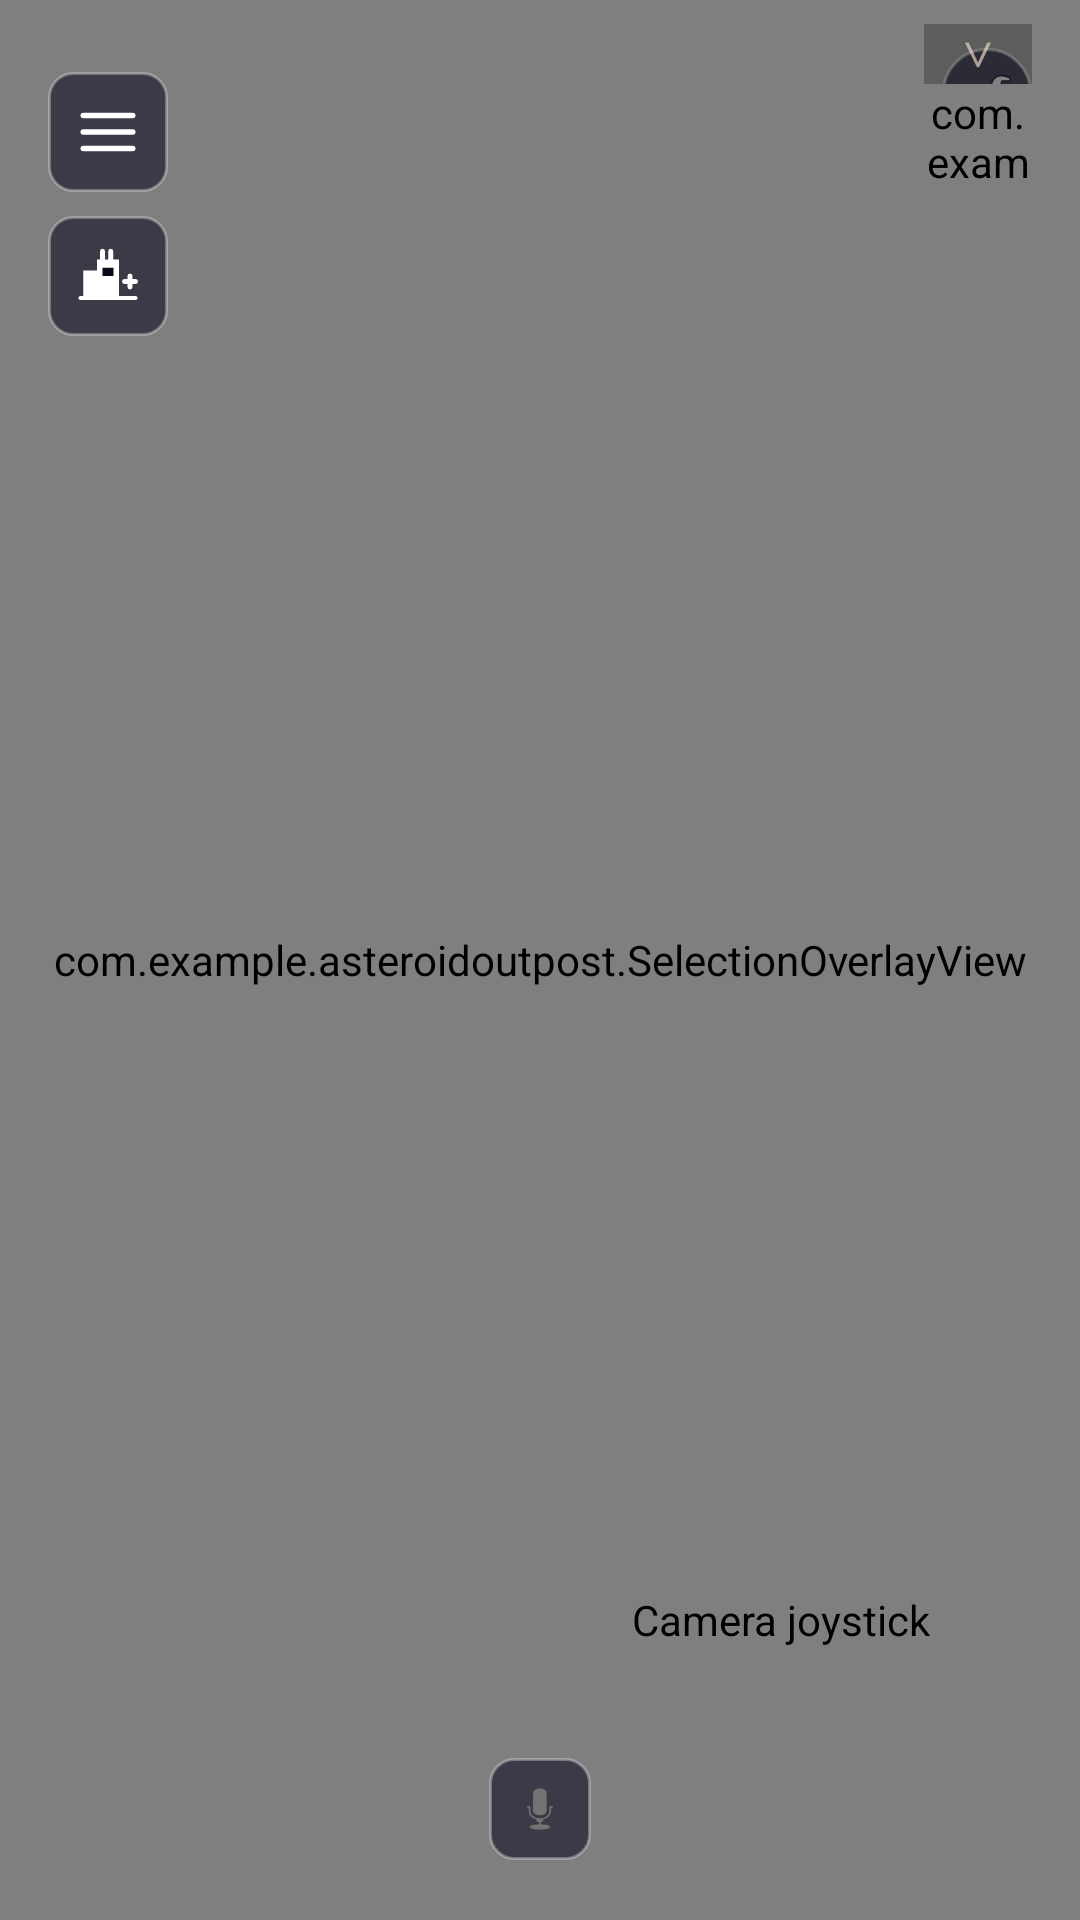

Icons on this 1080px x 1920px Android screen, each with its box as [x1=x1, y1=y1, x2=x2, y2=y2]:
Голосовая команда: [x1=489, y1=1758, x2=591, y2=1860]
Команды: [x1=48, y1=72, x2=168, y2=192]
Строительство: [x1=48, y1=216, x2=168, y2=336]
